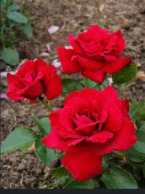RedRose: (51, 86, 141, 178), (51, 21, 135, 81), (2, 57, 67, 109)
